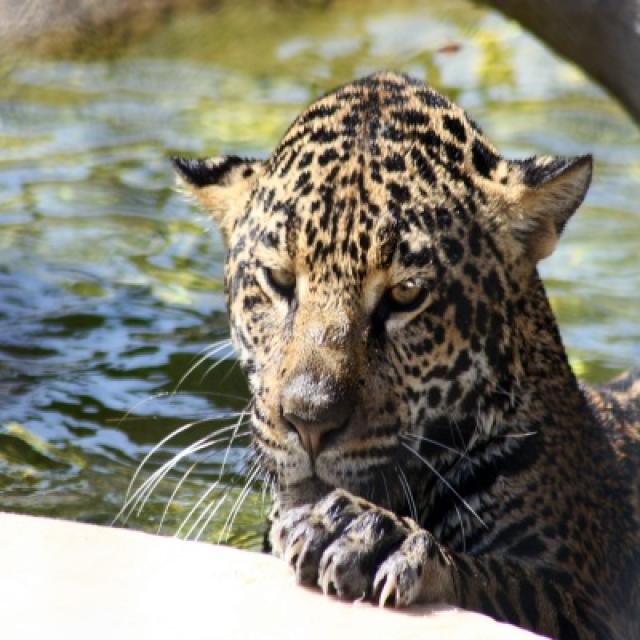Jaguar: (171, 70, 638, 638)
